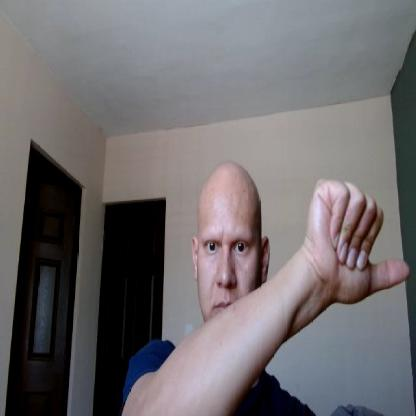A: (307, 175, 410, 308)
